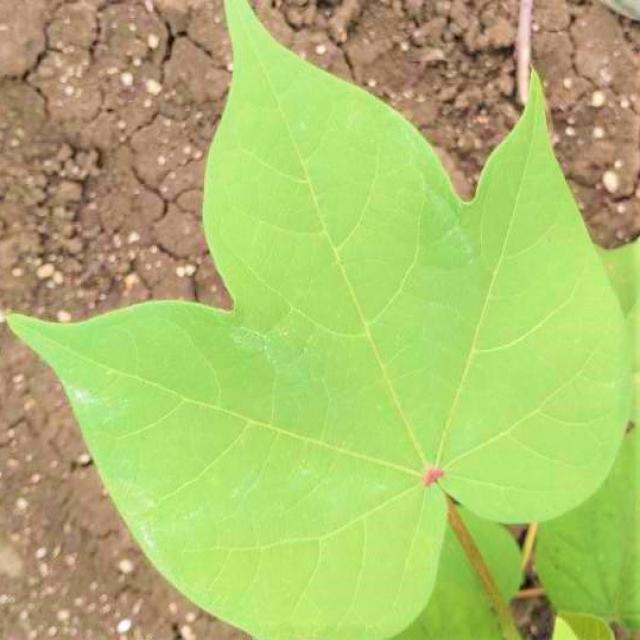Healthy Leaf: (10, 2, 640, 638)
